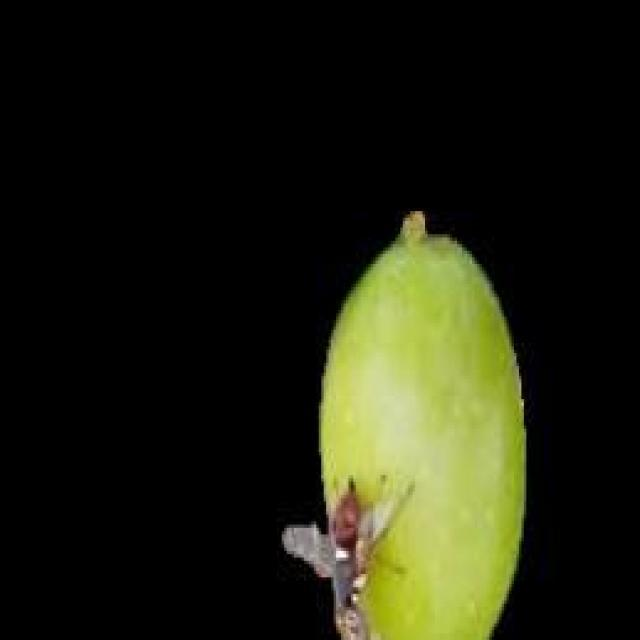Anthracnose: (284, 478, 412, 636)
